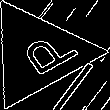P_SW: (3, 25, 73, 83)
